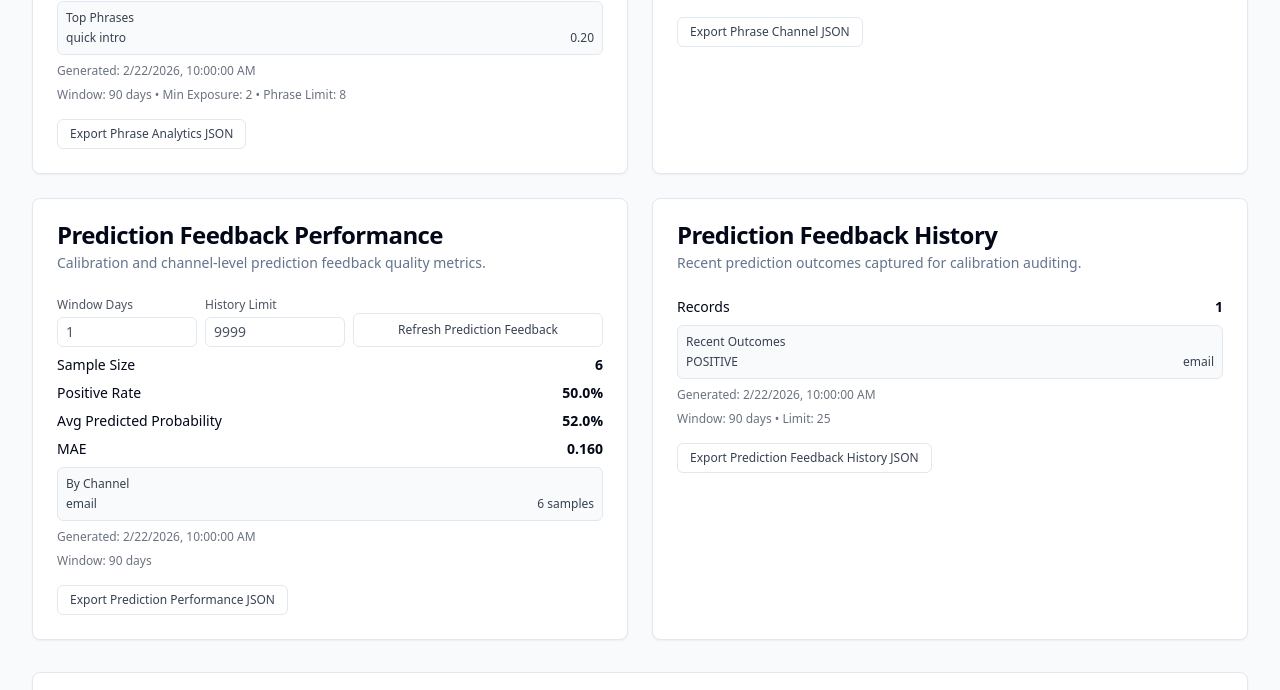
Scenario: SalesIntelligence page › normalizes phrase and prediction feedback filters and reissues analytics query keys with bounded values
Earlier steps of the test are not shown.
(page scrolled)
Click the button with test id "sales-prediction-feedback-refresh-btn" at [478, 330], box [353,313,603,347]
(page scrolled)
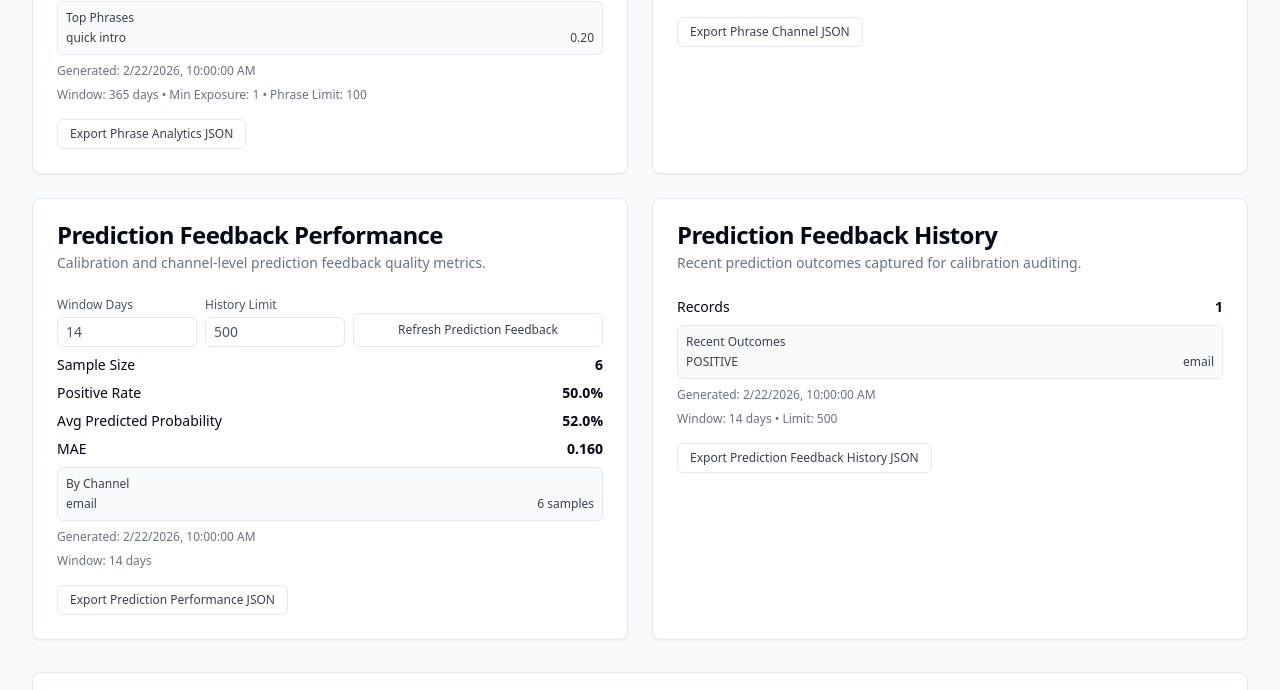
Check: the number field with test id "sales-prediction-feedback-window-days-input" holds "14", box [57,317,197,347]
Check: the number field with test id "sales-prediction-feedback-limit-input" holds "500", box [205,317,345,347]
